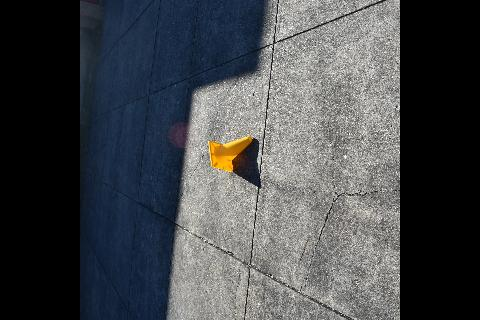cone: (209, 136, 251, 170)
